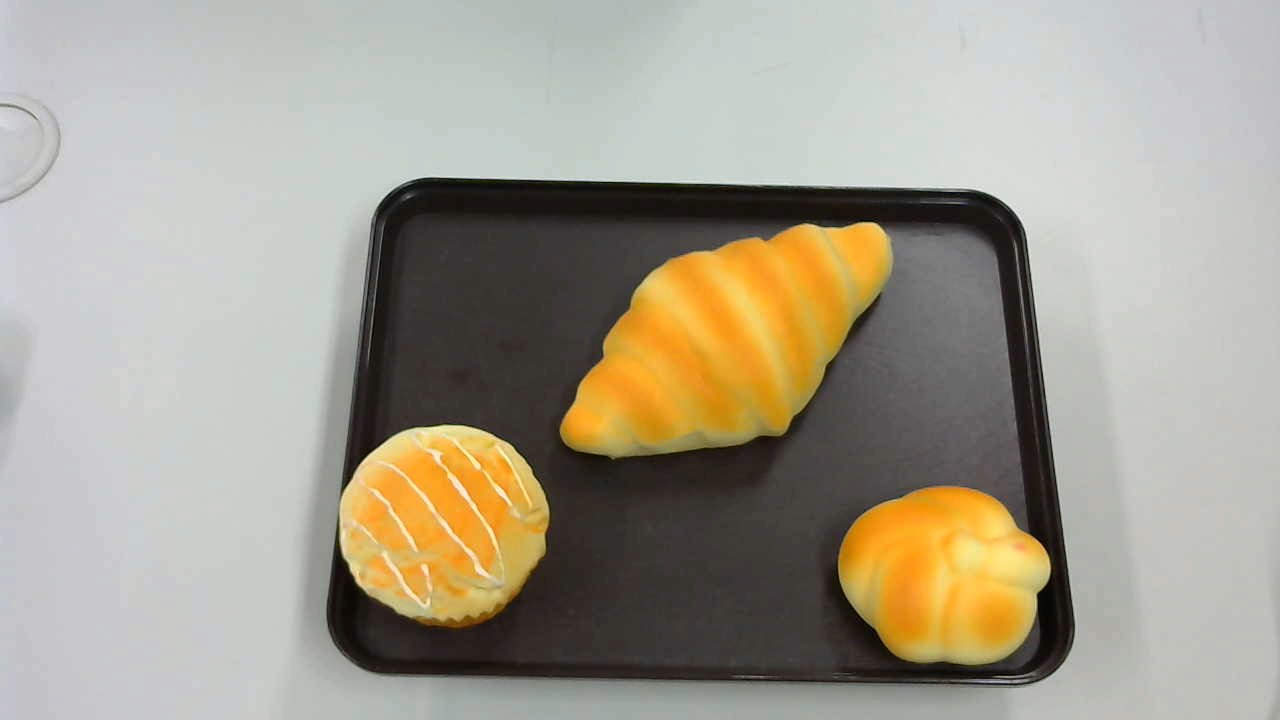croissant: (560, 222, 892, 461), (837, 485, 1050, 661)
cupcake: (340, 424, 550, 628)
